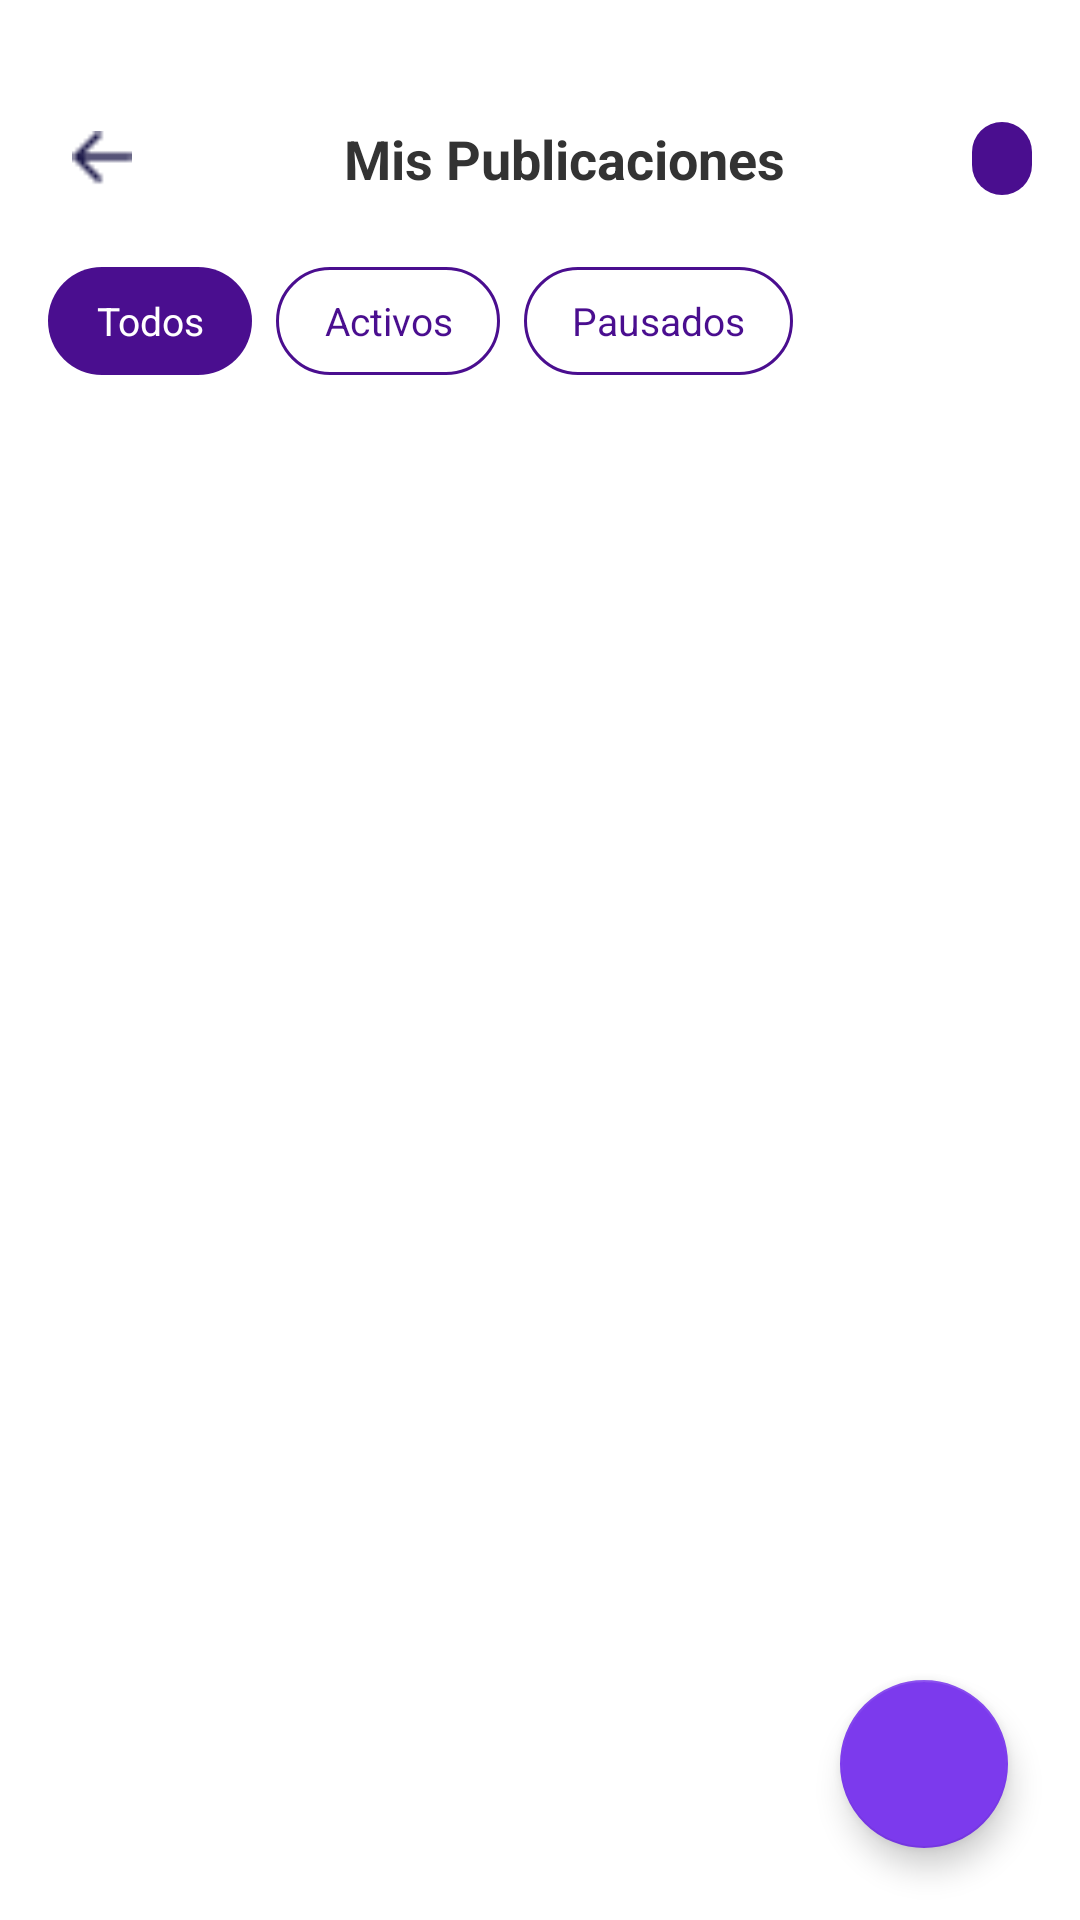

Screen size 1080 x 1920. Icon name, then its box in pixels as (x1, y1, x2, y2):
flechaizquierda: (72, 131, 132, 184)
